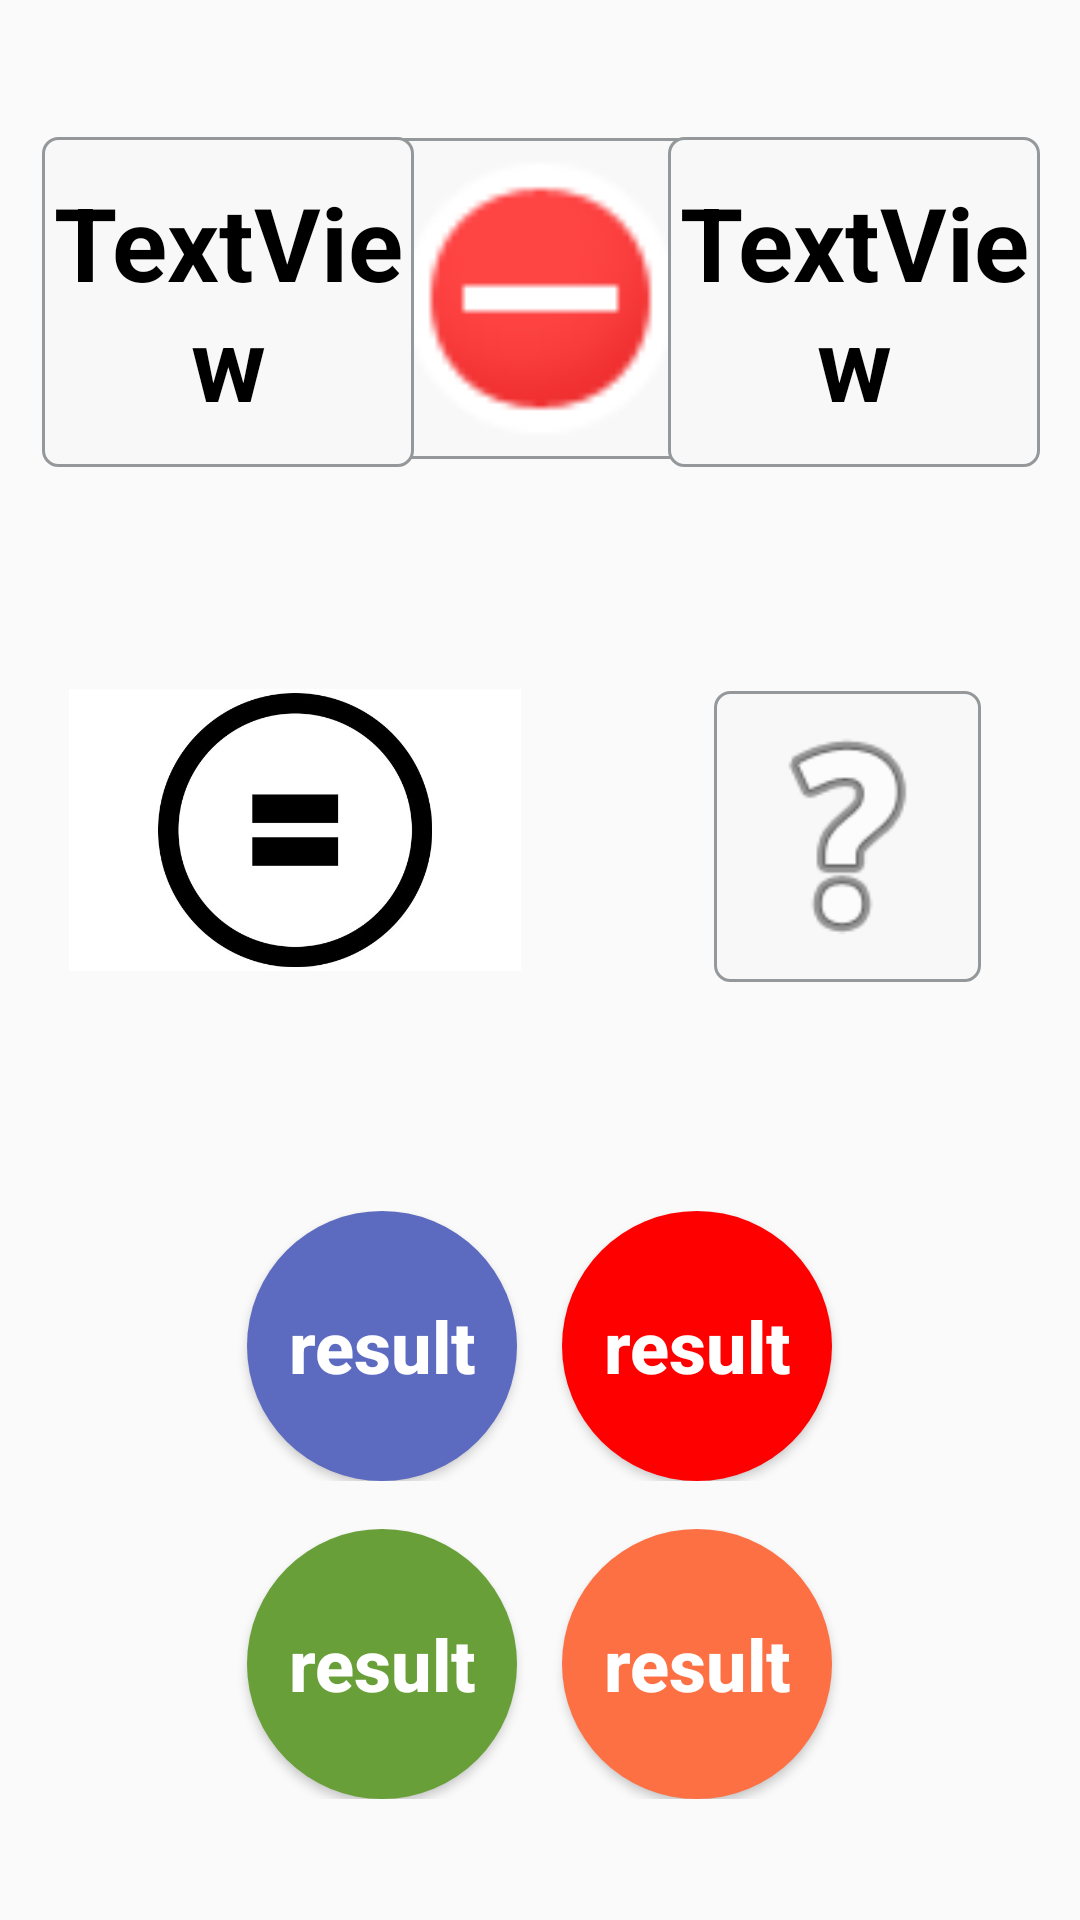

Icons on this 1080px×1920px Android screen, each with its box as detection(x1, y1, x2, y2):
equals: detection(158, 693, 432, 967)
help: detection(714, 691, 981, 982)
presence busy: detection(429, 187, 652, 410)
